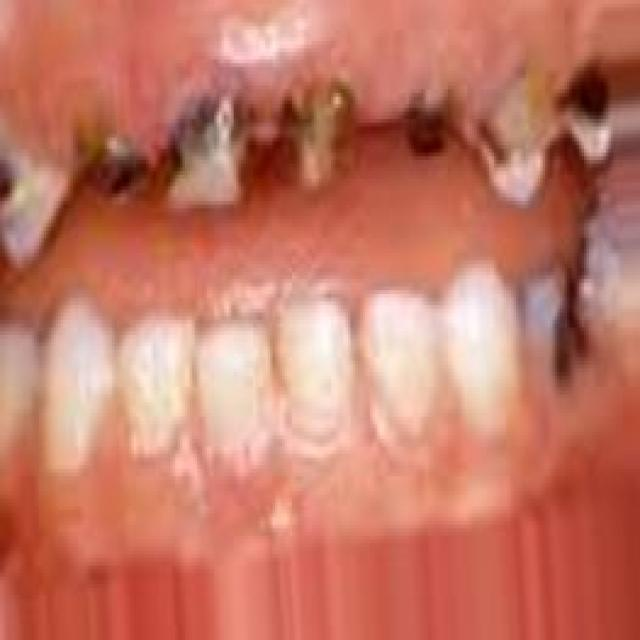caries: (162, 83, 262, 217), (474, 54, 560, 204), (65, 83, 156, 213), (274, 67, 360, 199), (522, 261, 596, 398), (399, 70, 463, 175), (560, 51, 612, 170), (0, 125, 44, 242)
